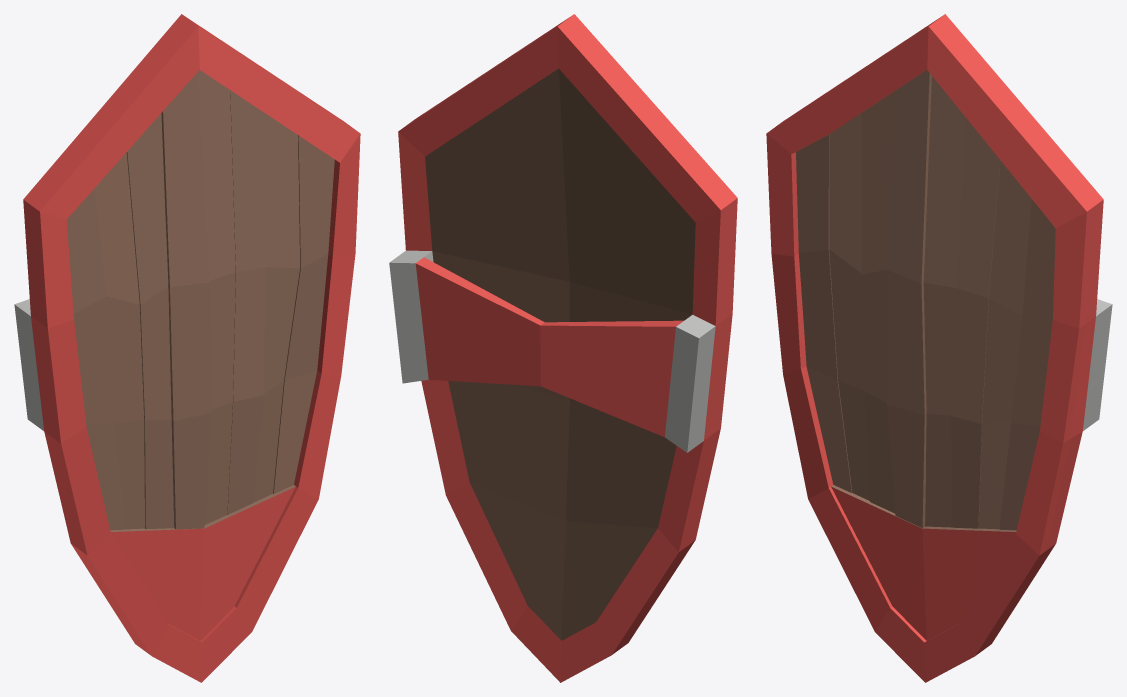
File: shield-type-02.obj
The picture shows the model from 3 angles, left to right: view 1: azimuth 30°, elevation 25°; view 2: azimuth 150°, elevation 25°; view 3: azimuth 330°, elevation 25°; orthographic projection.
Visible parts, largest first — view 1: shield-type-02; view 2: shield-type-02; view 3: shield-type-02.
Boxes of the visible parts, x1,y1,x2,y2 form: shield-type-02: [14, 14, 360, 682]; shield-type-02: [389, 14, 737, 682]; shield-type-02: [766, 14, 1112, 682].
Bounding box in the file's own units: 0.3981 × 0.7765 × 0.092.
